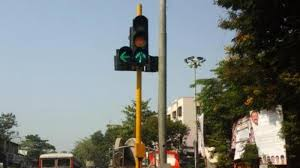signal: (117, 48, 150, 67), (132, 14, 149, 49)
